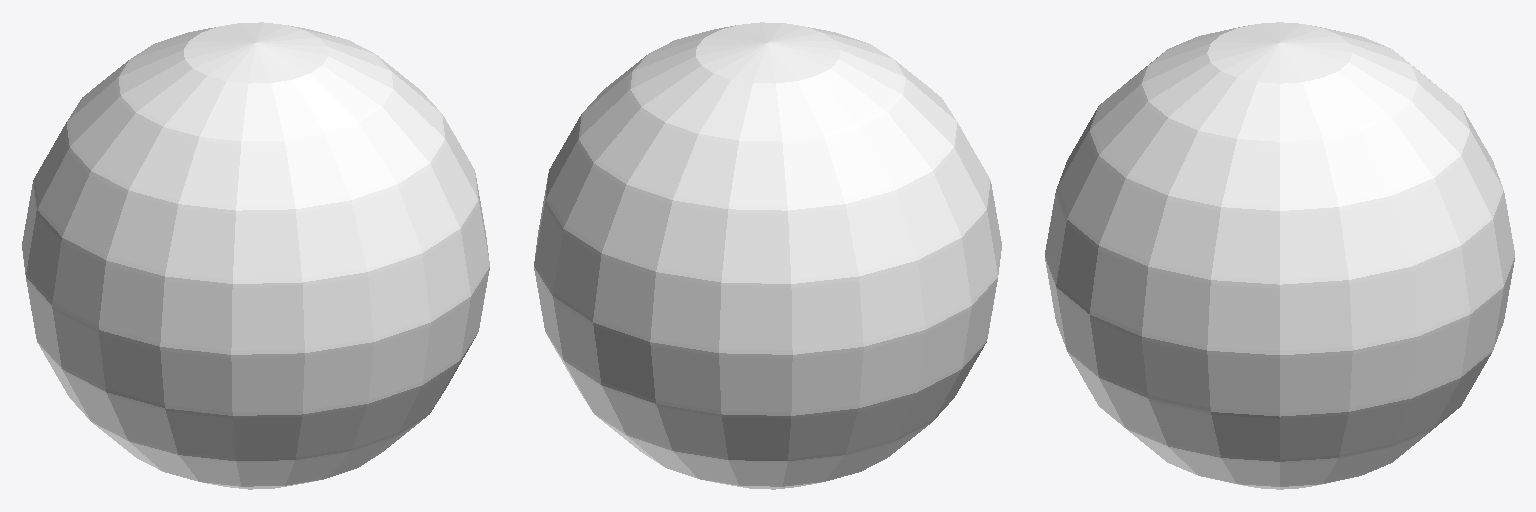
3 renders of one model, left to right at view 1: azimuth 30°, elevation 25°; view 2: azimuth 150°, elevation 25°; view 3: azimuth 270°, elevation 25°, orthographic.
Visible parts, largest first — view 1: aws_Ball_01_visualMesh; view 2: aws_Ball_01_visualMesh; view 3: aws_Ball_01_visualMesh.
Part boxes in pixels (x1,y1,x2,y2): aws_Ball_01_visualMesh: (22,22,489,489); aws_Ball_01_visualMesh: (534,22,1001,489); aws_Ball_01_visualMesh: (1045,22,1514,489).
Bounding box in the file's own units: 0.63 × 0.6302 × 0.63.